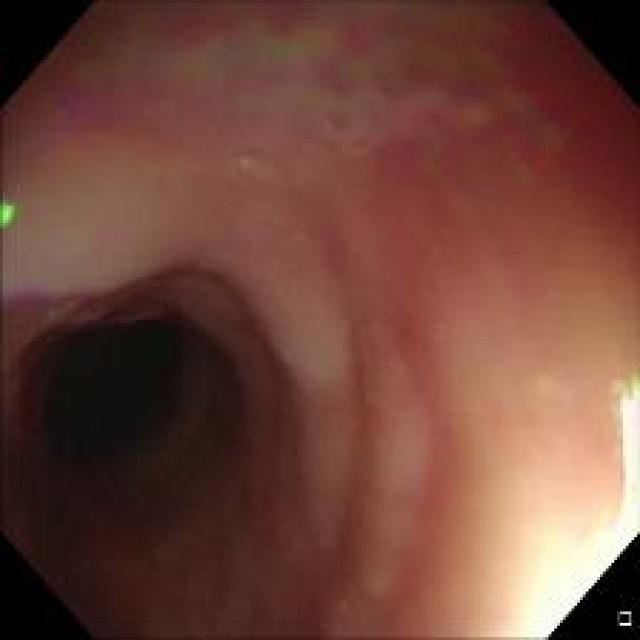color misalignment: (40, 14, 572, 161), (0, 196, 18, 229)
contrast: (16, 289, 278, 596)
saturation: (511, 530, 625, 634)
specularity: (611, 372, 638, 544)
